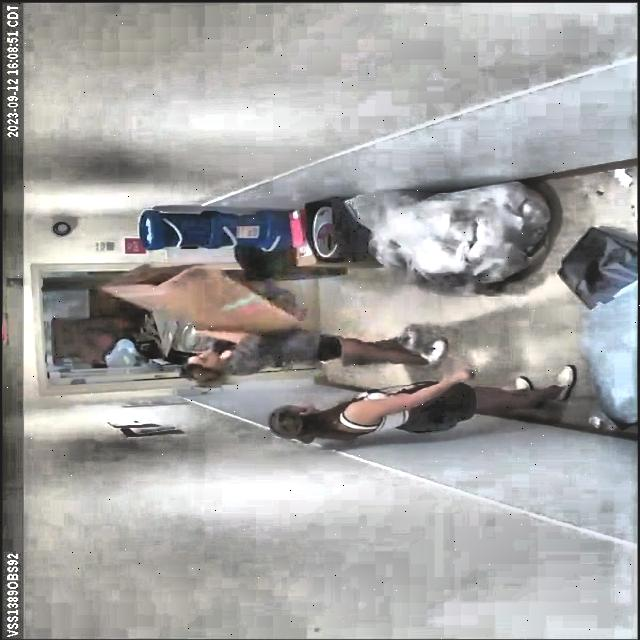not-gloved: (444, 360, 484, 388)
